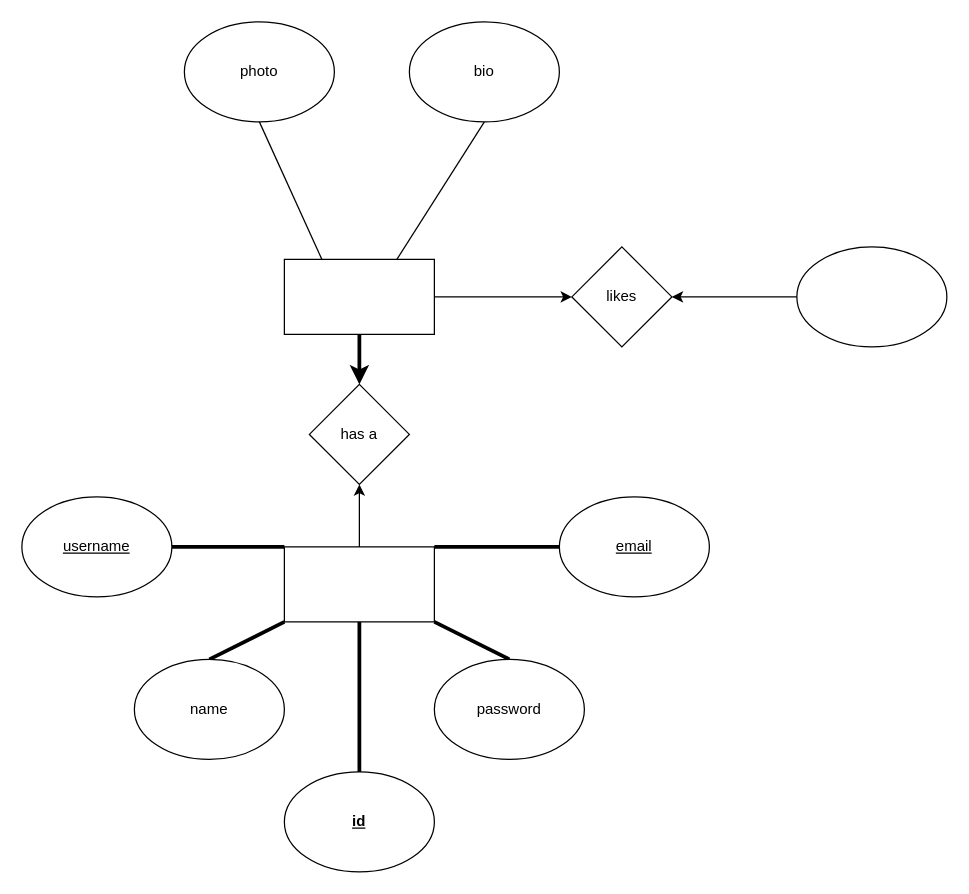
The diagram is 969 pixels wide and 894 high, and some of its shapes have lost their labels. Here are the shapes that lost their labels. From the top down, the box of each, then its label:
(283, 258, 434, 334): Profiles
(796, 246, 947, 347): posts
(283, 546, 434, 622): Users
